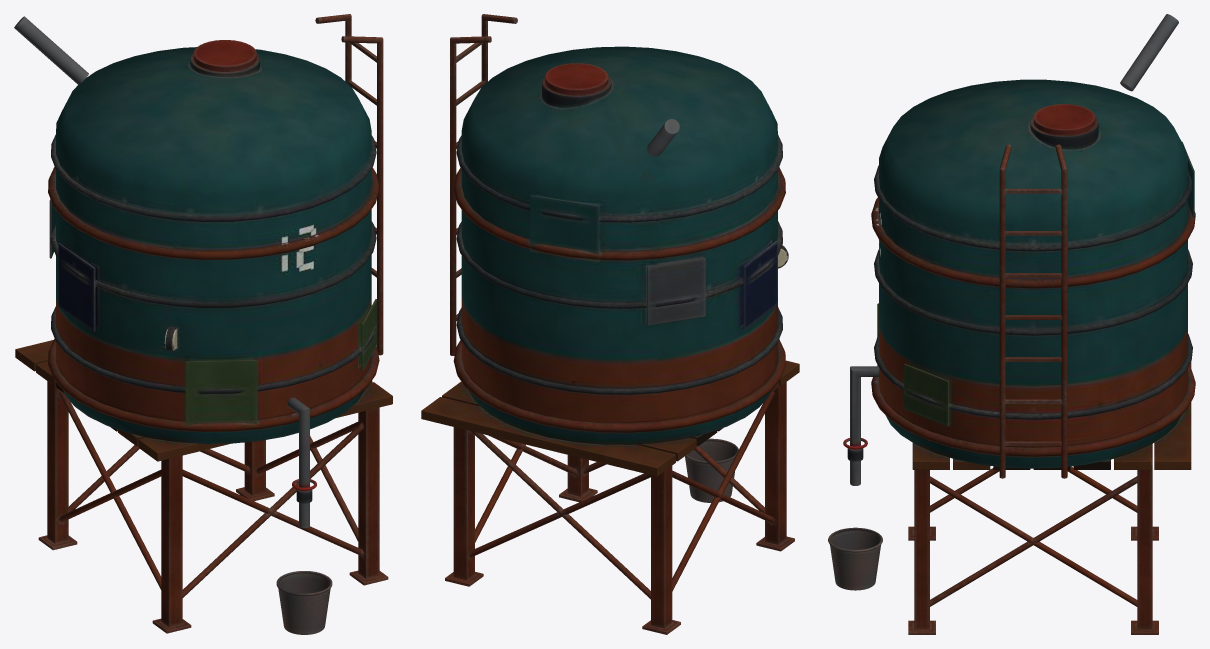
Rendered from water_tank_fringe.glb.
3 views of the same model, side by side, from view 1: azimuth 30°, elevation 25°; view 2: azimuth 150°, elevation 25°; view 3: azimuth 270°, elevation 25° (orthographic). The views are drawn at different scales.
Visible parts, largest first — view 1: water_tank_fringe; view 2: water_tank_fringe; view 3: water_tank_fringe.
Boxes of the visible parts, x1,y1,x2,y2 form: water_tank_fringe: (14, 14, 392, 634); water_tank_fringe: (421, 14, 799, 634); water_tank_fringe: (828, 14, 1195, 634).
Bounding box in the file's own units: 2.17 × 3.64 × 2.38.
Materials: 1 (1 with a texture image).
